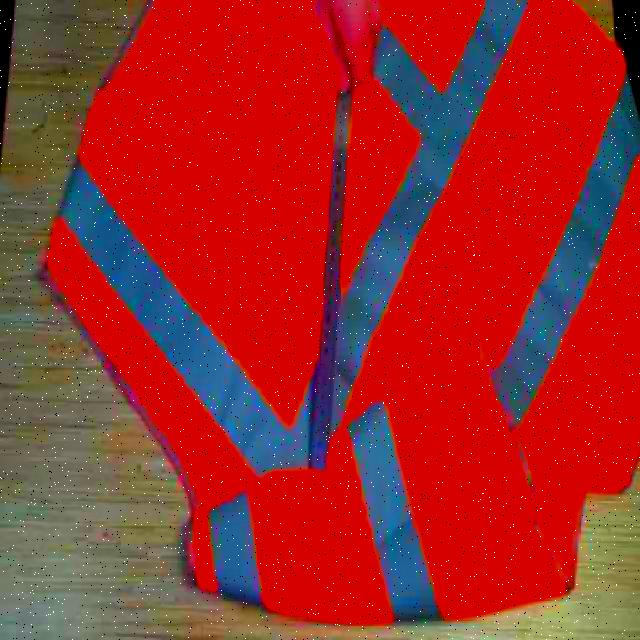Mask: (39, 0, 638, 628)
